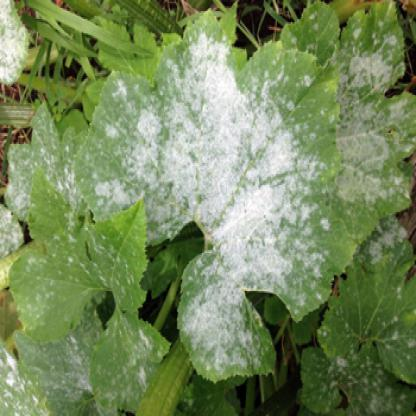PowderyMildew: (136, 84, 306, 207), (214, 115, 318, 296)
